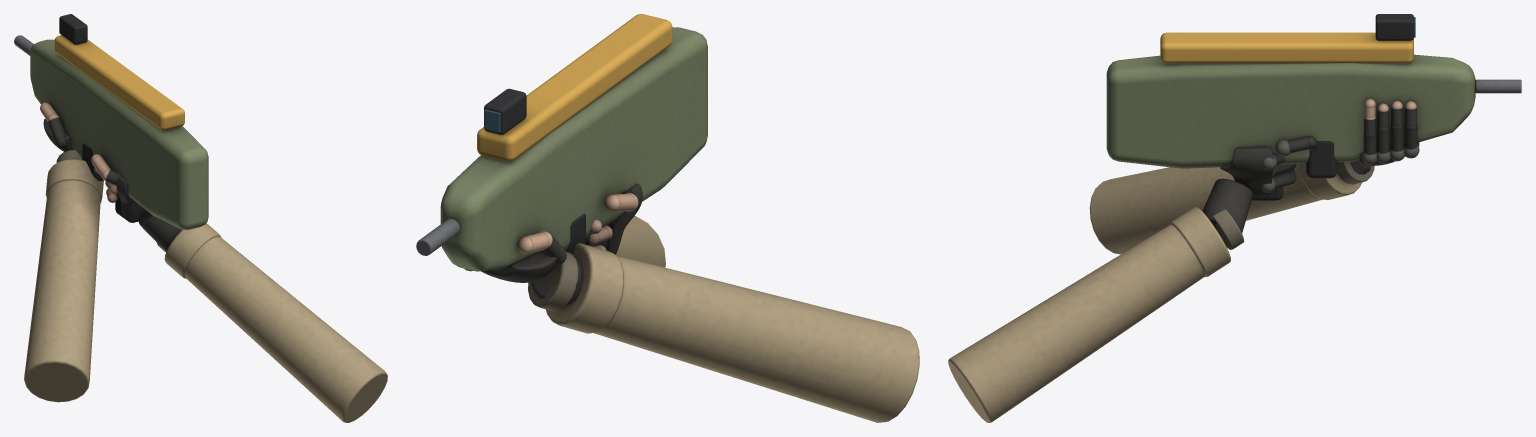
Rendered from sproejte.glb.
The picture shows the model from 3 angles, left to right: view 1: azimuth 30°, elevation 25°; view 2: azimuth 150°, elevation 25°; view 3: azimuth 270°, elevation 25°; orthographic projection. The views are drawn at different scales.
Visible parts, largest first — view 1: hænder, sproejte; view 2: sproejte, hænder; view 3: sproejte, hænder.
Part boxes in pixels (x1,y1,x2,y2): hænder: (24, 102, 387, 422); sproejte: (14, 14, 208, 229); sproejte: (416, 14, 707, 271); hænder: (464, 184, 919, 422); sproejte: (1106, 14, 1521, 200); hænder: (948, 98, 1419, 422).
Size of the model in its own units: 0.5162 by 0.4935 by 0.7458.
Materials: 2 (2 with a texture image).
